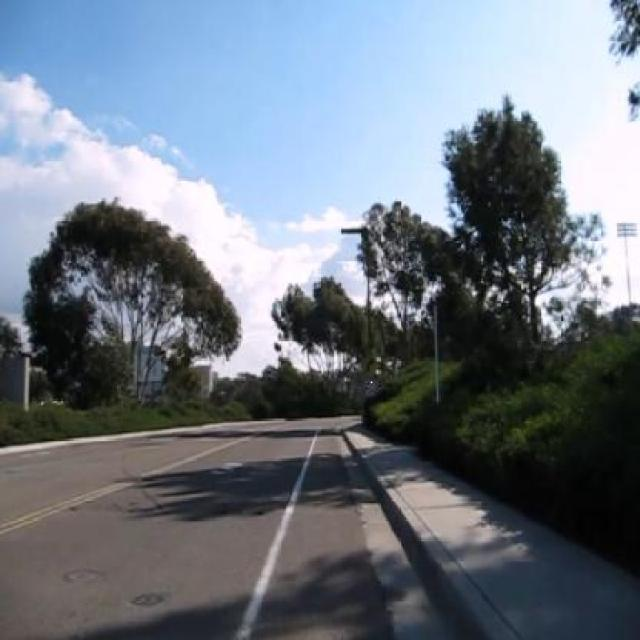speedLimitUrdbl: (365, 377, 377, 398)
